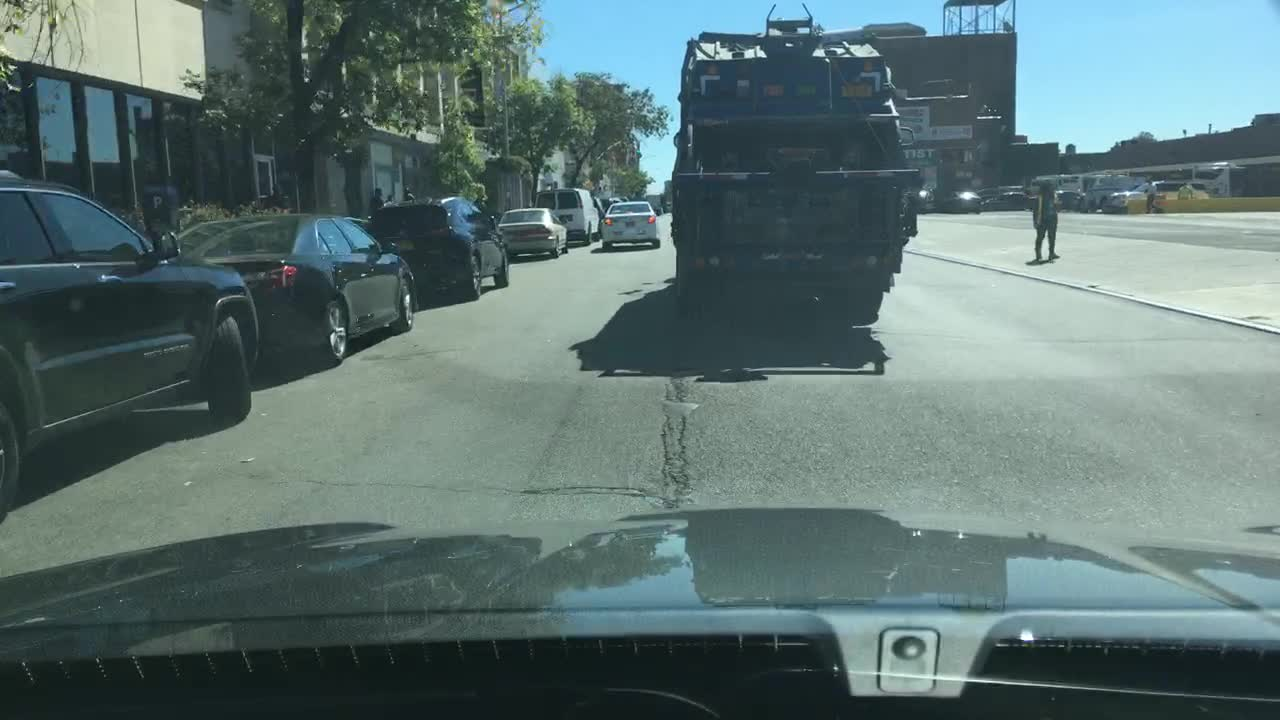car: (0, 168, 262, 518), (145, 212, 418, 367), (365, 193, 511, 302), (534, 186, 599, 248), (495, 205, 568, 259), (600, 200, 659, 251), (1090, 175, 1138, 210), (1112, 177, 1155, 210), (940, 186, 982, 216), (1154, 180, 1209, 201), (985, 189, 1027, 212), (1054, 193, 1090, 212), (970, 184, 1003, 202), (917, 186, 936, 217), (1061, 172, 1088, 193), (1088, 169, 1117, 185), (598, 194, 621, 214), (646, 192, 665, 211), (661, 192, 673, 216), (1001, 180, 1027, 191), (620, 192, 631, 205)
person: (1028, 177, 1057, 258), (1142, 170, 1157, 212), (370, 183, 387, 213), (1174, 180, 1194, 199), (401, 183, 414, 202), (383, 191, 397, 208)
truck: (672, 0, 923, 328)
